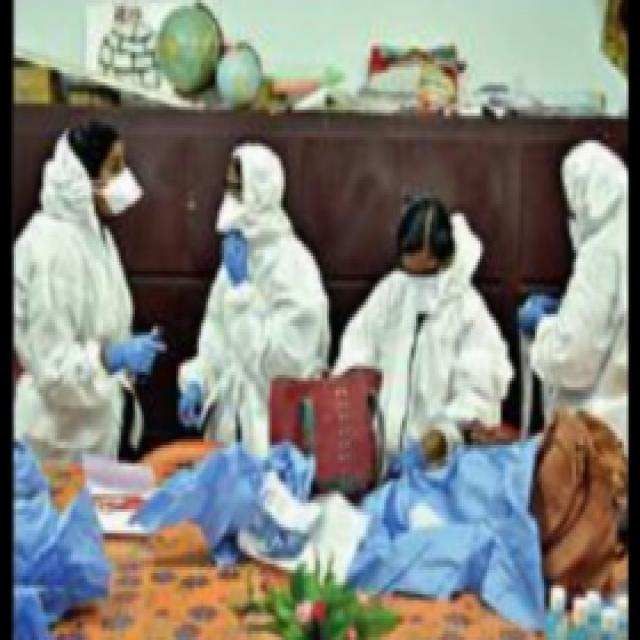Coverall: (132, 50, 264, 212), (0, 39, 113, 197), (255, 72, 388, 195), (392, 47, 478, 187)
Gloves: (70, 133, 128, 168), (120, 150, 170, 183)
Mask: (78, 69, 111, 97), (287, 108, 338, 126), (157, 73, 183, 101)
